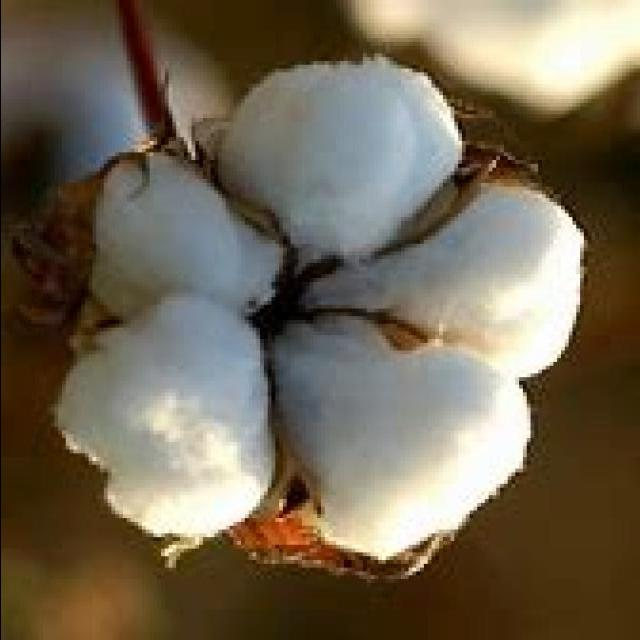Matured Cotton Boll: (59, 56, 581, 578)
